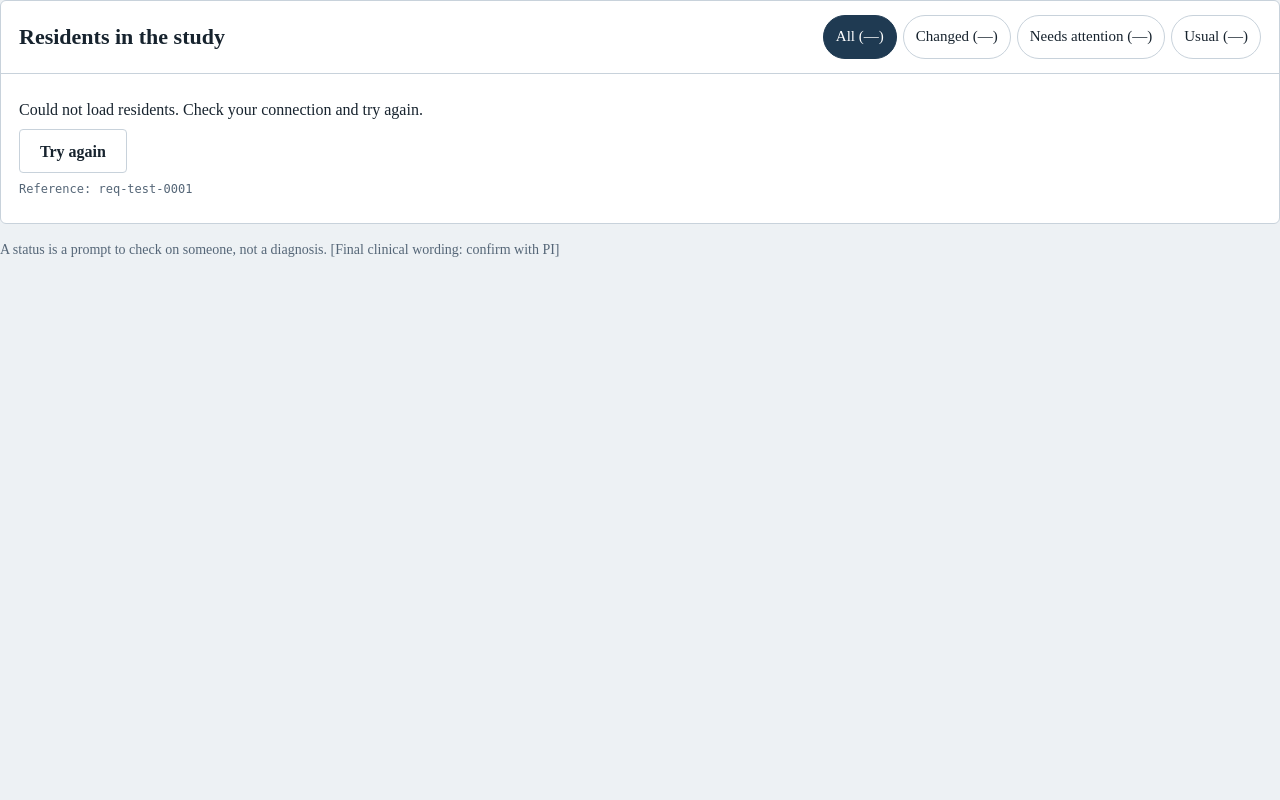
Test case: /residents page › shows the error with reference and retries (UX-203)
The width and height of the screenshot is (1280, 800).
Check: the text "Could not load residents. Check your connection and try again." is shown, box [19,98,423,121]
Check: the text "Reference: req-test-0001" is shown, box [19,181,192,199]
Click the button "Try again" at {"x": 73, "y": 151}, box [19,129,127,173]
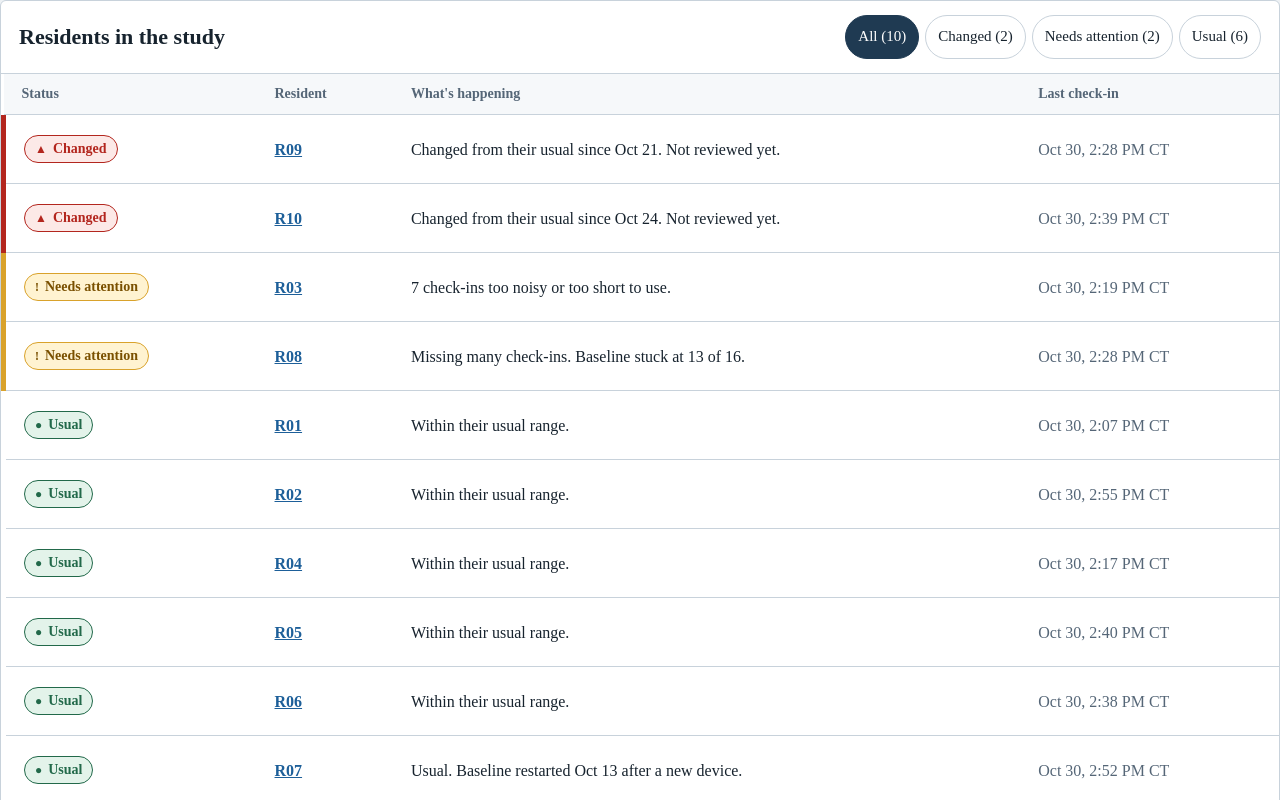
Check: the link named "Open chart for R09" is shown, box [274,141,302,158]
